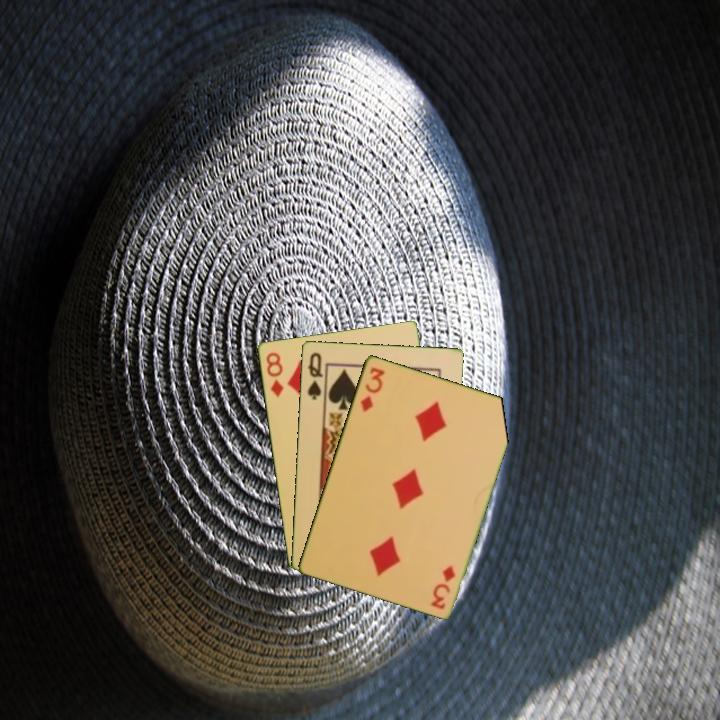3d: (356, 363, 388, 415), (428, 562, 458, 612)
8d: (262, 349, 286, 400)
Qs: (303, 349, 325, 402)
